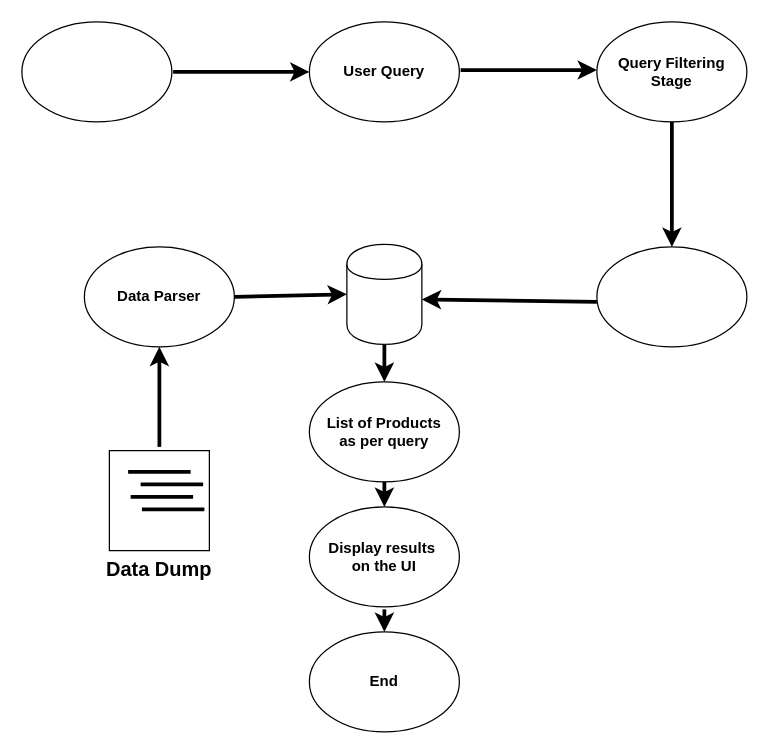
This 769x754 diagram has some shape labels left out. Here are the shapes that lost their labels. From the top down, the box of each, then its label:
(21, 21, 172, 122): Start
(346, 243, 422, 344): Solar DB
(596, 246, 747, 347): conversion of filtered query to DB query
